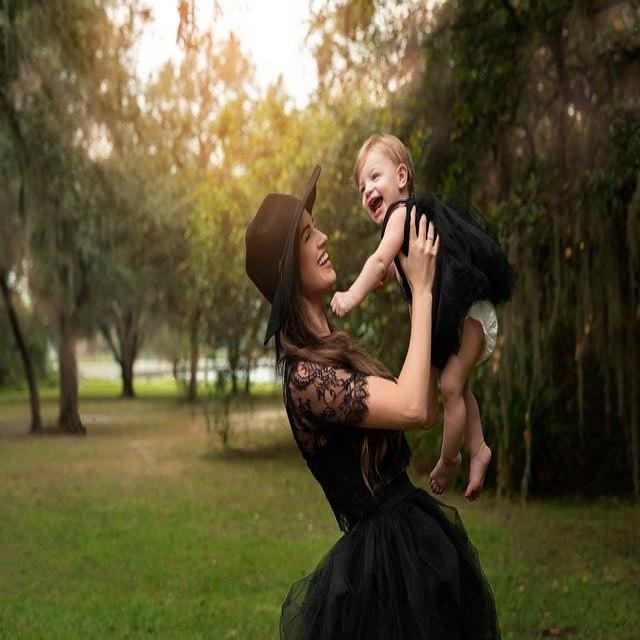adult: (244, 163, 500, 640)
child: (328, 130, 519, 505)
